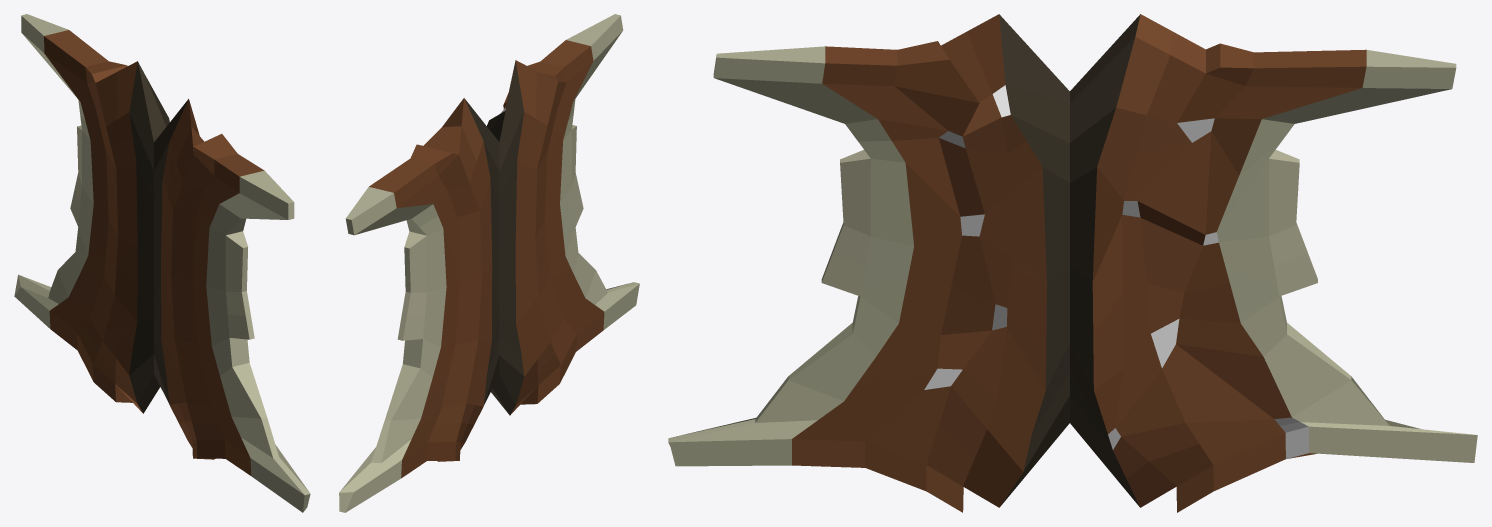
The model's file is deer skin_01.fbx.
The picture shows the model from 3 angles, left to right: view 1: azimuth 30°, elevation 25°; view 2: azimuth 150°, elevation 25°; view 3: azimuth 270°, elevation 25°; orthographic projection. The views are drawn at different scales.
Visible parts, largest first — view 1: skin; view 2: skin; view 3: skin.
Part boxes in pixels (x1,y1,x2,y2): skin: (14, 14, 310, 512); skin: (339, 14, 639, 512); skin: (668, 14, 1477, 512).
Size of the model in its own units: 17.62 by 138 by 207.
